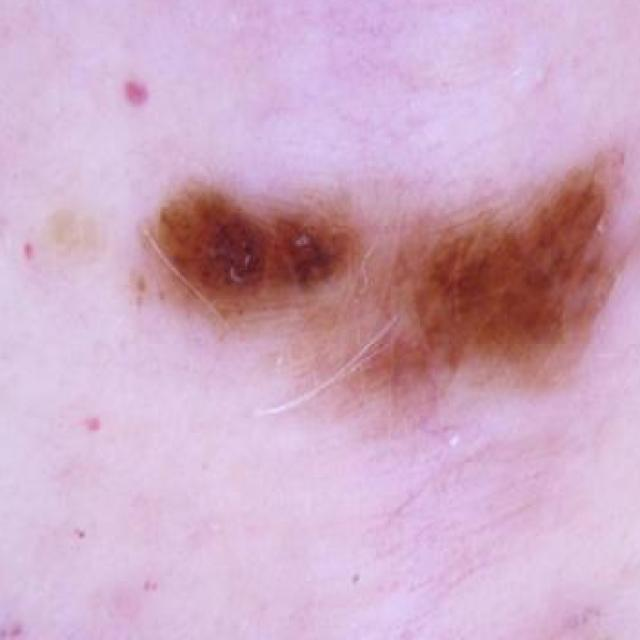NV: (49, 153, 640, 433)
